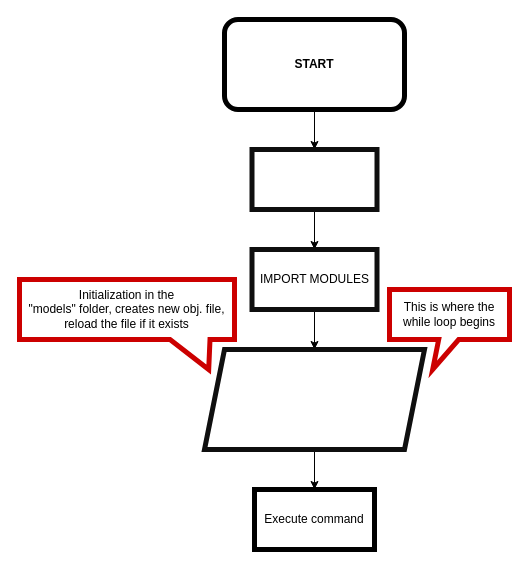
Some shapes in this 529 by 569 pixel diagram are drawn without their labels. The centre of each missing label's shape, as x and y in pixels:
CONSTRUCTORS: (x=314, y=179)
INPUT MODULE: - Q uit - U pdate - A ll - D estroy - S how: (x=314, y=399)
